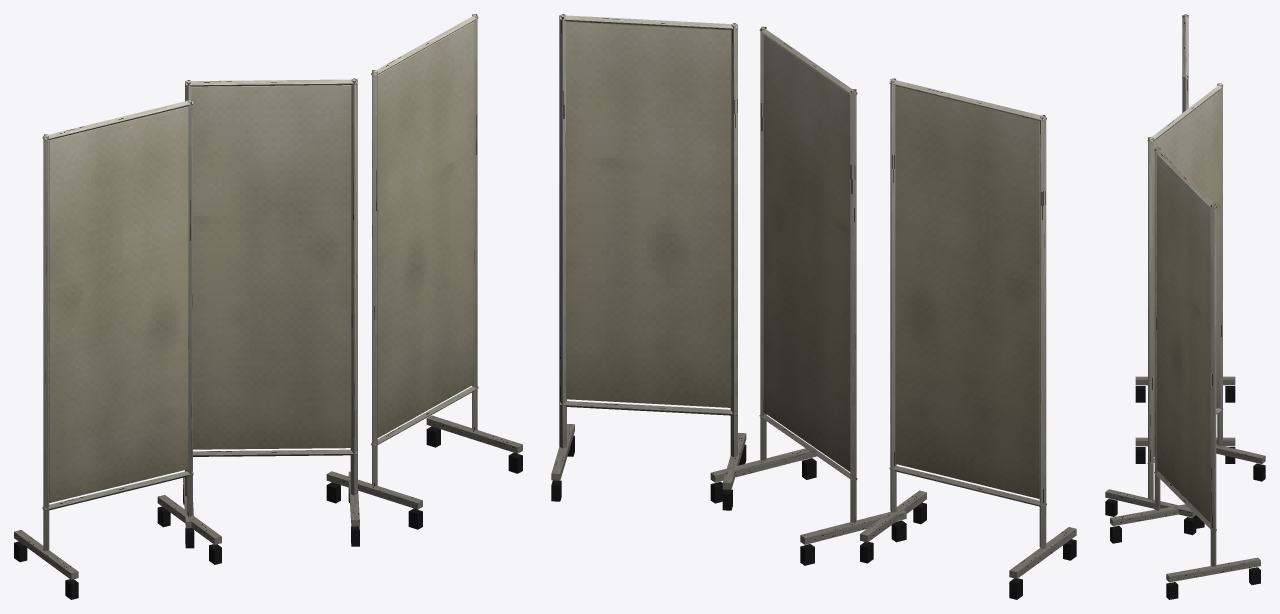
File: prop_screen-0.glb
3 renders of one model, left to right at view 1: azimuth 30°, elevation 25°; view 2: azimuth 150°, elevation 25°; view 3: azimuth 270°, elevation 25°, orthographic. The views are drawn at different scales.
Parts seen in each view (by area): view 1: prop_screen-0; view 2: prop_screen-0; view 3: prop_screen-0.
Boxes of the visible parts, box(x1,y1,x2,y2) form: prop_screen-0: box(14, 14, 522, 599); prop_screen-0: box(551, 14, 1076, 599); prop_screen-0: box(1105, 14, 1265, 599).
Size of the model in its own units: 1.9 by 1.71 by 0.6435.
Materials: 3 (3 with a texture image).
